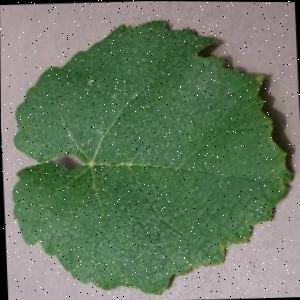Folha: (4, 15, 299, 300)
